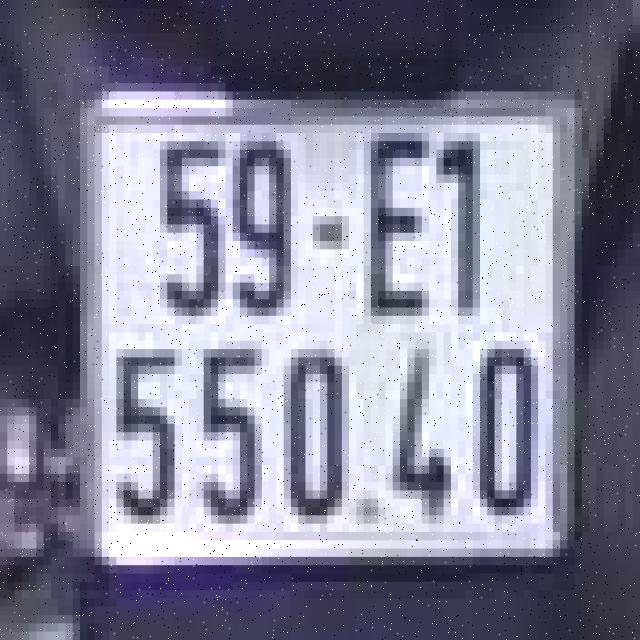0: (269, 337, 356, 528), (476, 349, 549, 515)
1: (436, 125, 494, 324)
4: (375, 328, 469, 528)
5: (105, 332, 193, 524), (189, 337, 269, 536), (153, 129, 225, 328)
9: (229, 129, 302, 320)
E: (353, 125, 440, 332)
